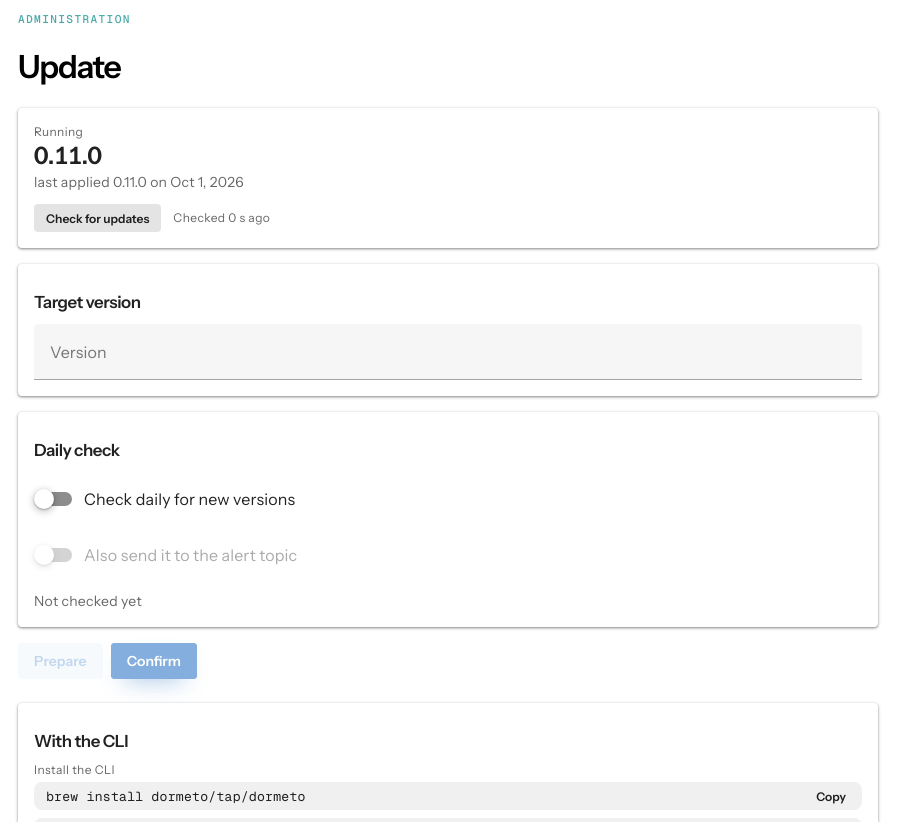
Test: Update › shows the running version, its last apply and the versions on offer
Press the mouse on the dropdown labelled "Version" at x=448, y=352, box [34, 324, 862, 380]
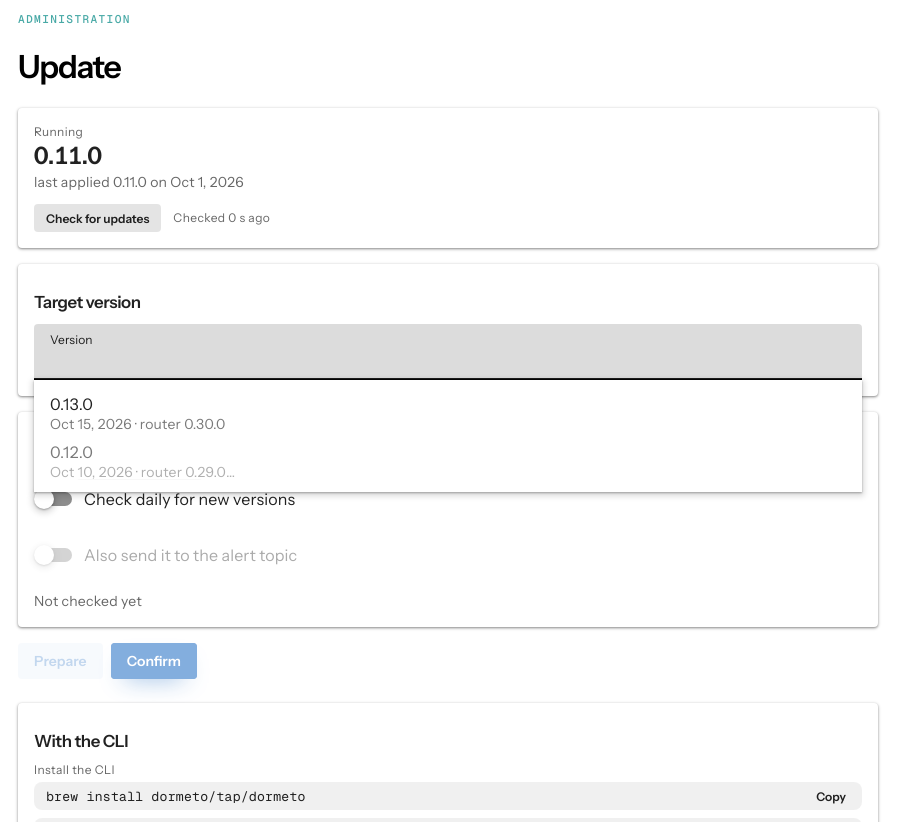
expect the text "router 0.30.0" is shown: met, box [50, 415, 226, 432]
